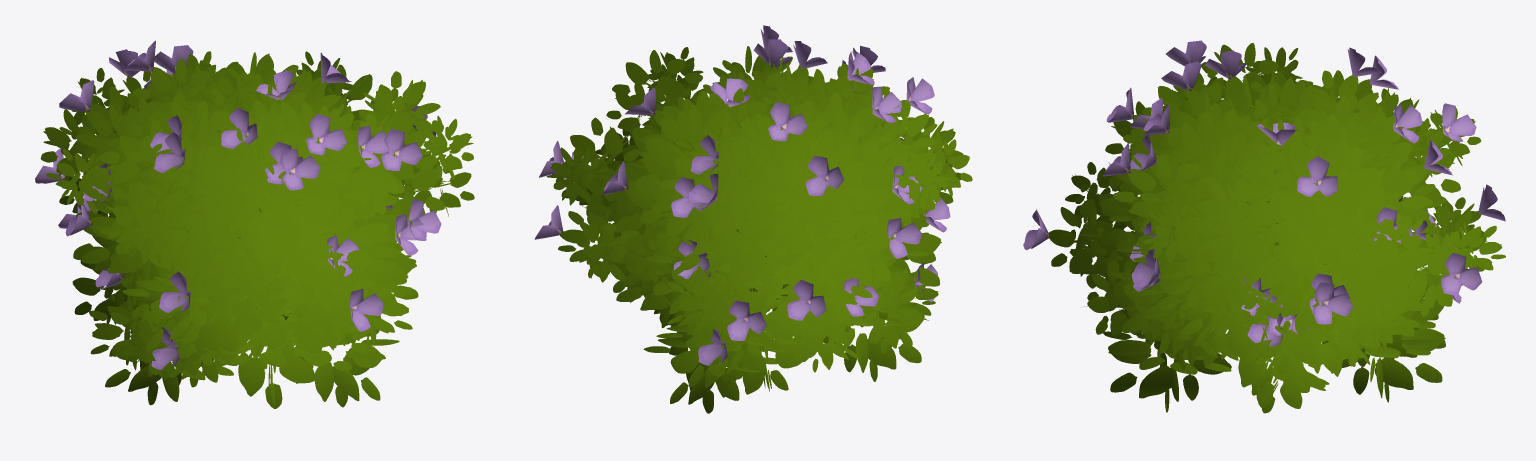
The model's file is Bush_Common_Flowers.gltf.
3 views of the same model, side by side, from view 1: azimuth 30°, elevation 25°; view 2: azimuth 150°, elevation 25°; view 3: azimuth 270°, elevation 25° (orthographic). The views are drawn at different scales.
Parts seen in each view (by area): view 1: Bush_Common_Flowers; view 2: Bush_Common_Flowers; view 3: Bush_Common_Flowers.
Boxes of the visible parts, box(x1,y1,x2,y2) form: Bush_Common_Flowers: box(35, 40, 474, 408); Bush_Common_Flowers: box(534, 25, 972, 413); Bush_Common_Flowers: box(1023, 40, 1505, 413).
Size of the model in its own units: 1.91 by 1.58 by 1.97.
Materials: 2 (2 with a texture image).
